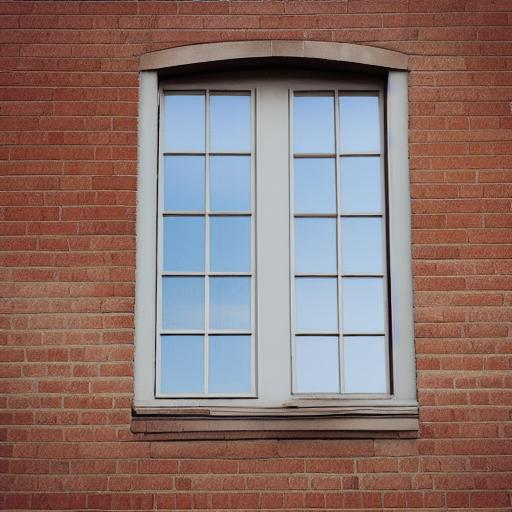Window: (131, 37, 422, 437)
